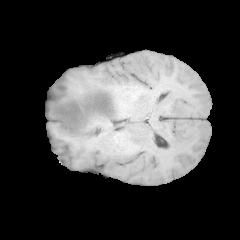glioma: (46, 78, 128, 137)
